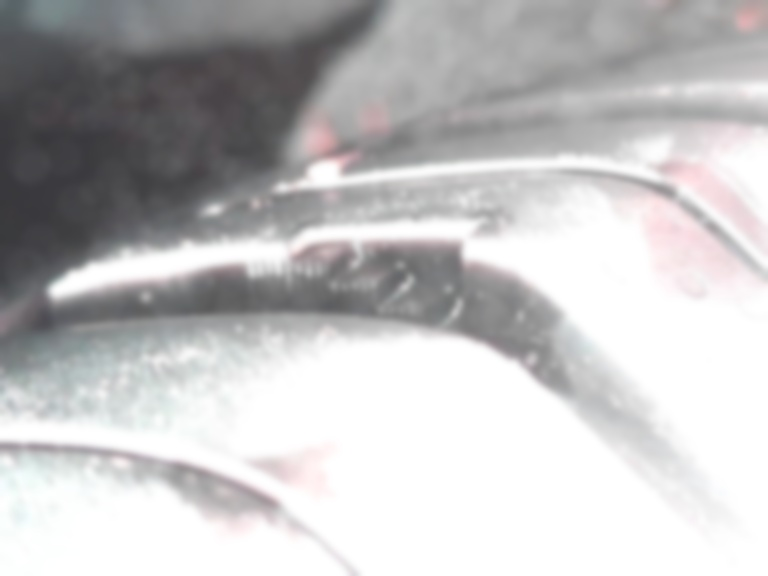temoin:90: (234, 211, 494, 348)
